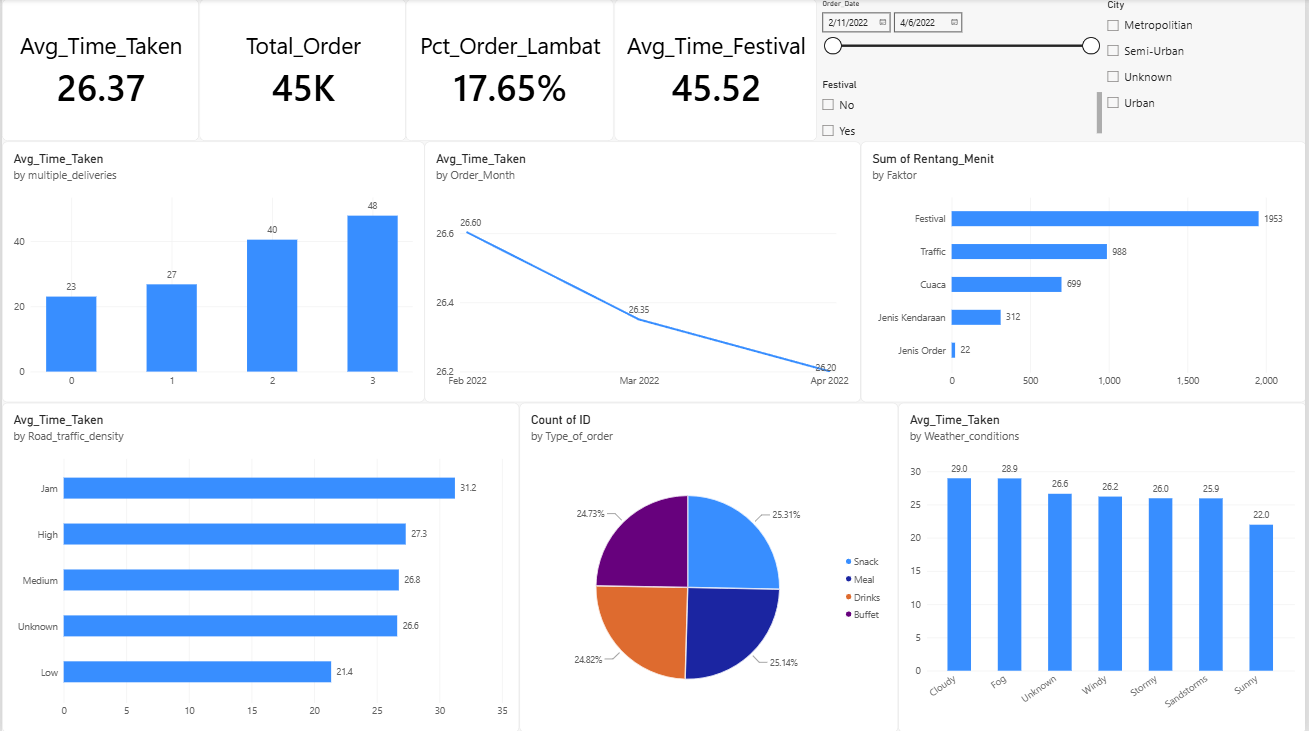

This screenshot's page, from the dashboard's own definition file:
{"tool":"powerbi","page":{"name":"Page 1","canvas":[1920,1080],"ordinal":0},"visuals":[{"type":"cardVisual","fields":{"Data":["zomato_eda.Avg_Time_Taken"]},"box":[0,0,290.2,209.9],"z":0},{"type":"cardVisual","fields":{"Data":["zomato_eda.Total_Order"]},"box":[290.2,0,304.6,209.9],"z":1000},{"type":"cardVisual","fields":{"Data":["zomato_eda.Pct_Order_Lambat"]},"box":[594.9,0,306.7,209.9],"z":2000},{"type":"cardVisual","fields":{"Data":["zomato_eda.Avg_Time_Festival"]},"box":[901.5,0,298.5,209.9],"z":3000},{"type":"lineChart","fields":{"Category":["zomato_eda.Order_Month"],"Y":["zomato_eda.Avg_Time_Taken"]},"box":[622,210,642,384],"z":4000},{"type":"clusteredBarChart","fields":{"Category":["Faktor_rangking.Faktor"],"Y":["Sum(Faktor_rangking.Rentang_Menit)"]},"box":[1264,210,656,384],"z":5000},{"type":"pieChart","fields":{"Category":["zomato_eda.Type_of_order"],"Y":["CountNonNull(zomato_eda.ID)"]},"box":[761.6,594.9,557.8,485.8],"z":6000},{"type":"clusteredBarChart","fields":{"Category":["zomato_eda.Road_traffic_density"],"Y":["zomato_eda.Avg_Time_Taken"]},"box":[0,594.9,761.6,485.8],"z":7000},{"type":"clusteredColumnChart","fields":{"Category":["zomato_eda.Weather_conditions"],"Y":["zomato_eda.Avg_Time_Taken"]},"box":[1319.4,594.9,601,485.8],"z":8000},{"type":"slicer","fields":{"Values":["zomato_eda.Order_Date"]},"box":[1200,0,419.6,117.8],"z":9000},{"type":"slicer","fields":{"Values":["zomato_eda.City"]},"box":[1619.9,0,300.5,209.9],"z":10000},{"type":"slicer","fields":{"Values":["zomato_eda.Festival"]},"box":[1200,117.8,419.6,92],"z":11000},{"type":"clusteredColumnChart","fields":{"Y":["zomato_eda.Avg_Time_Taken"],"Category":["zomato_eda.multiple_deliveries"]},"box":[0,210,622,384],"z":12000}]}

Visuals, with their boxes in screenshot pixels (x1, y1, x2, y2), scaled from the page's 1920x1080 canvas onto the 1309x731 screenshot:
cardVisual - zomato_eda.Avg_Time_Taken: <bbox>0, 0, 198, 142</bbox>
cardVisual - zomato_eda.Total_Order: <bbox>198, 0, 406, 142</bbox>
cardVisual - zomato_eda.Pct_Order_Lambat: <bbox>406, 0, 615, 142</bbox>
cardVisual - zomato_eda.Avg_Time_Festival: <bbox>615, 0, 818, 142</bbox>
lineChart - zomato_eda.Order_Month x zomato_eda.Avg_Time_Taken: <bbox>424, 142, 862, 402</bbox>
clusteredBarChart - Faktor_rangking.Faktor x Sum(Faktor_rangking.Rentang_Menit): <bbox>862, 142, 1308, 402</bbox>
pieChart - zomato_eda.Type_of_order x CountNonNull(zomato_eda.ID): <bbox>519, 403, 900, 730</bbox>
clusteredBarChart - zomato_eda.Road_traffic_density x zomato_eda.Avg_Time_Taken: <bbox>0, 403, 519, 730</bbox>
clusteredColumnChart - zomato_eda.Weather_conditions x zomato_eda.Avg_Time_Taken: <bbox>900, 403, 1308, 730</bbox>
slicer - zomato_eda.Order_Date: <bbox>818, 0, 1104, 80</bbox>
slicer - zomato_eda.City: <bbox>1104, 0, 1308, 142</bbox>
slicer - zomato_eda.Festival: <bbox>818, 80, 1104, 142</bbox>
clusteredColumnChart - zomato_eda.Avg_Time_Taken x zomato_eda.multiple_deliveries: <bbox>0, 142, 424, 402</bbox>
